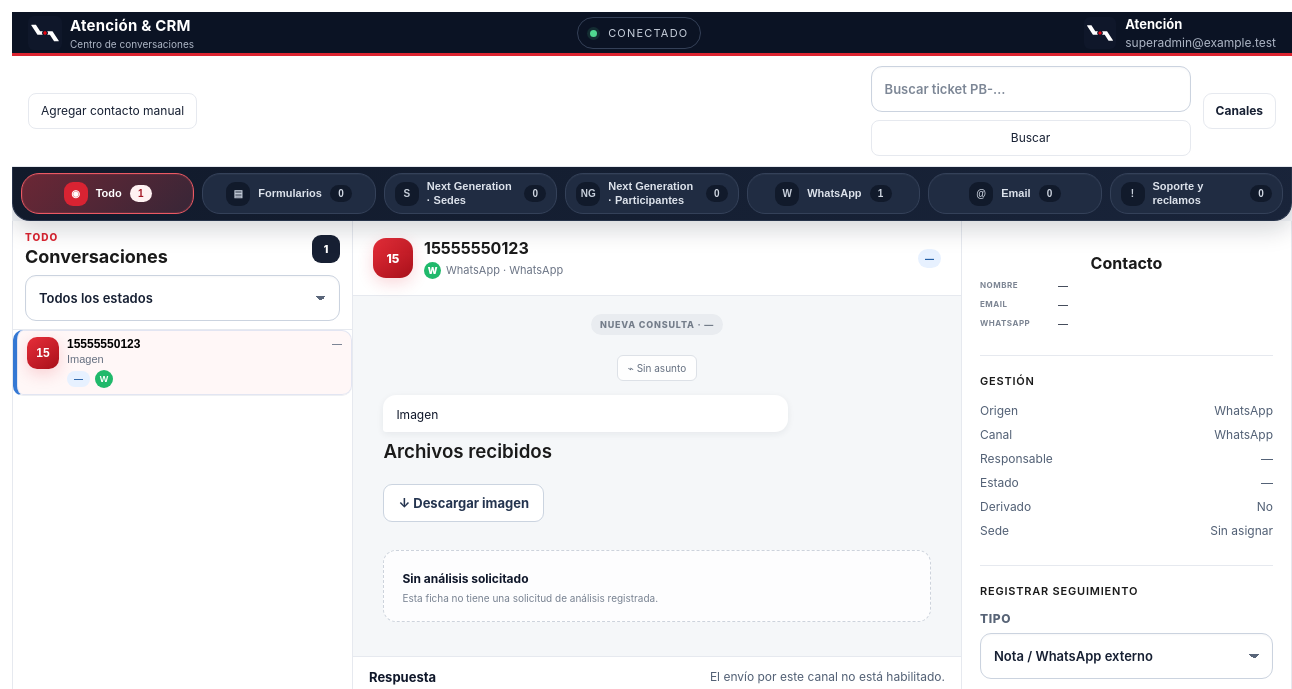
Scenario: CRM histórico unificado › permite solicitar un adjunto del evento autorizado y muestra fallos
This screenshot has width=1292, height=689.
Click the button "↓ Descargar imagen" at (464, 503), box x1=383 y1=484 x2=544 y2=522
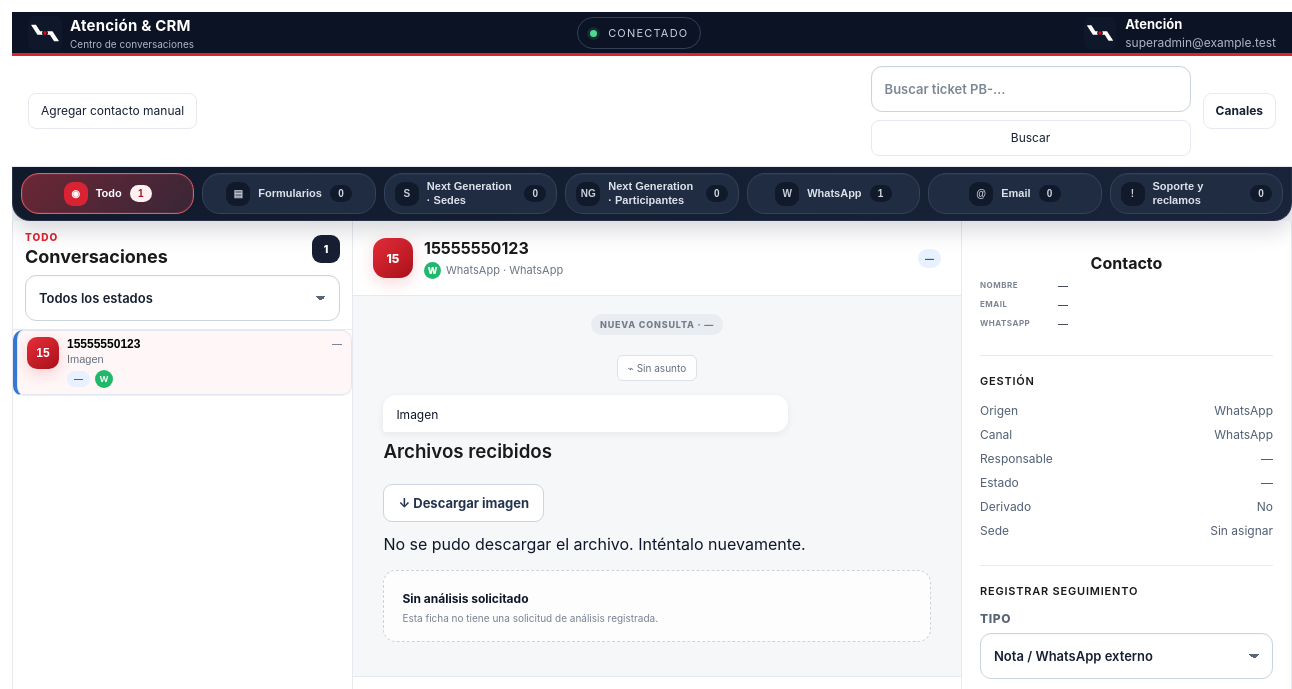
Now the text "No se pudo descargar el archivo. Inténtalo nuevamente." is shown, box x1=383 y1=534 x2=806 y2=554
